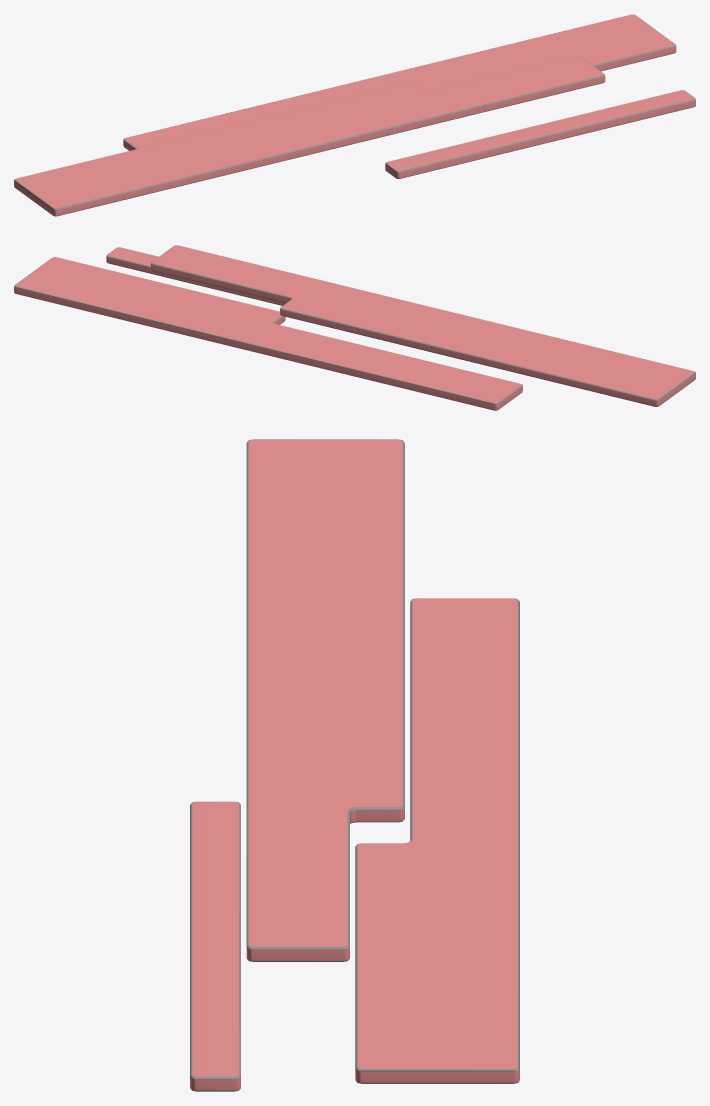
The model's file is S_Envi_Fyz_Building_104y.gltf.
3 renders of one model, top to bottom at view 1: azimuth 30°, elevation 25°; view 2: azimuth 150°, elevation 25°; view 3: azimuth 270°, elevation 25°, orthographic. The views are drawn at different scales.
Visible parts, largest first — view 1: S_Envi_Fyz_Building_104y; view 2: S_Envi_Fyz_Building_104y; view 3: S_Envi_Fyz_Building_104y.
Boxes of the visible parts, <box> form: S_Envi_Fyz_Building_104y: <box>14,14,695,216</box>; S_Envi_Fyz_Building_104y: <box>14,245,695,410</box>; S_Envi_Fyz_Building_104y: <box>190,439,519,1091</box>.
Bounding box in the file's own units: 12.95 × 0.7501 × 3.
